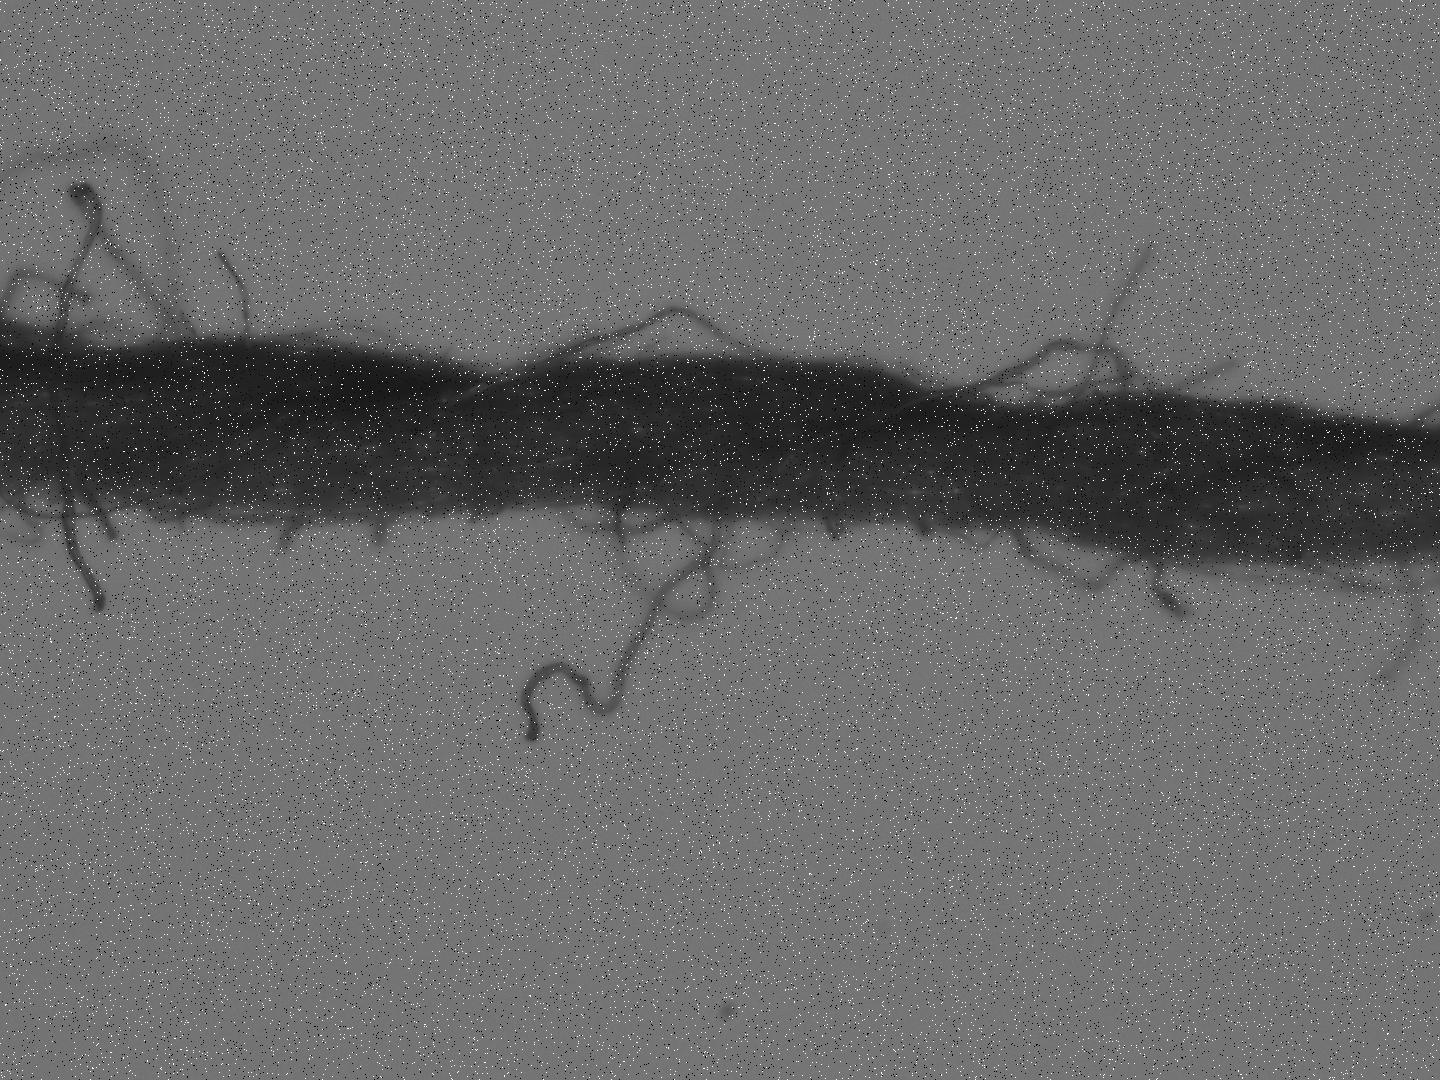loop_fiber: (0, 130, 202, 351), (542, 500, 857, 622), (513, 301, 791, 365), (935, 334, 1162, 410), (1155, 546, 1439, 593), (0, 478, 146, 547), (1008, 525, 1142, 593), (264, 320, 456, 363), (908, 516, 1006, 552)
protruding_fiber: (515, 503, 730, 740), (1071, 242, 1158, 403), (1369, 551, 1422, 698), (61, 476, 108, 614), (1138, 353, 1245, 393), (1143, 548, 1195, 622), (215, 246, 251, 340), (82, 488, 125, 540)
